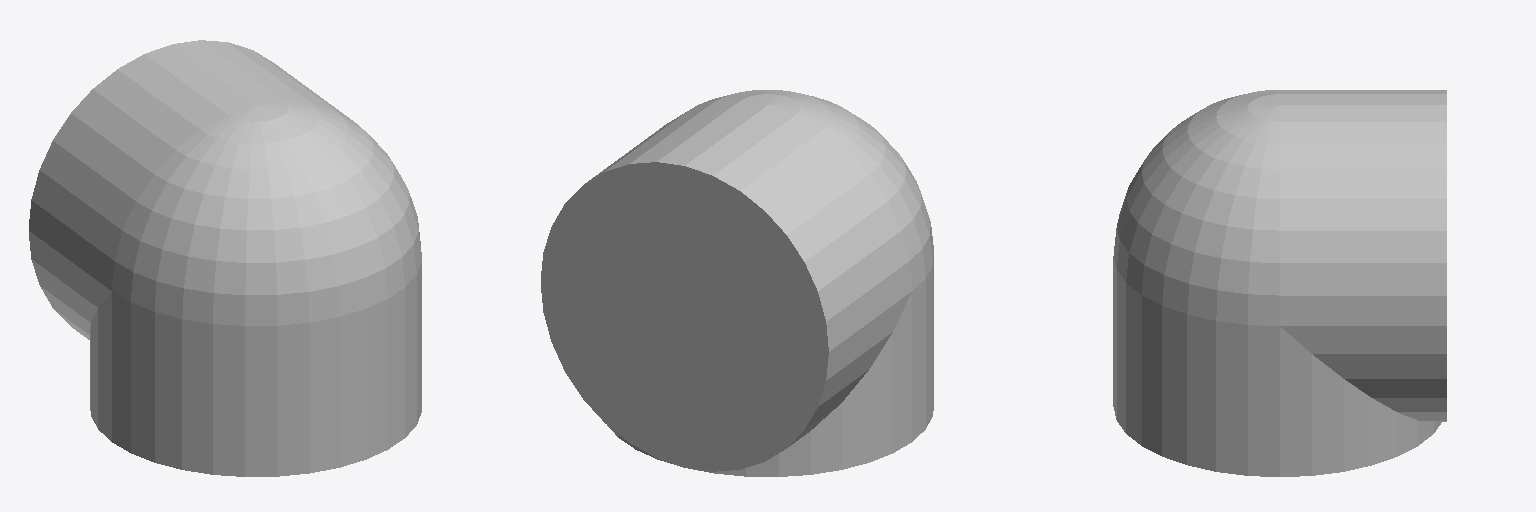
The model's file is bend.obj.
3 renders of one model, left to right at view 1: azimuth 30°, elevation 25°; view 2: azimuth 150°, elevation 25°; view 3: azimuth 270°, elevation 25°, orthographic.
Size of the model in its own units: 2 by 2 by 2.